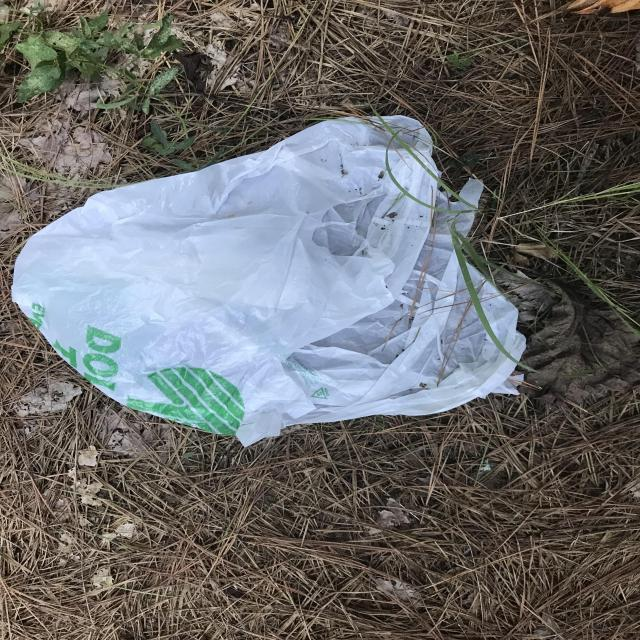litter: (8, 114, 315, 437)
